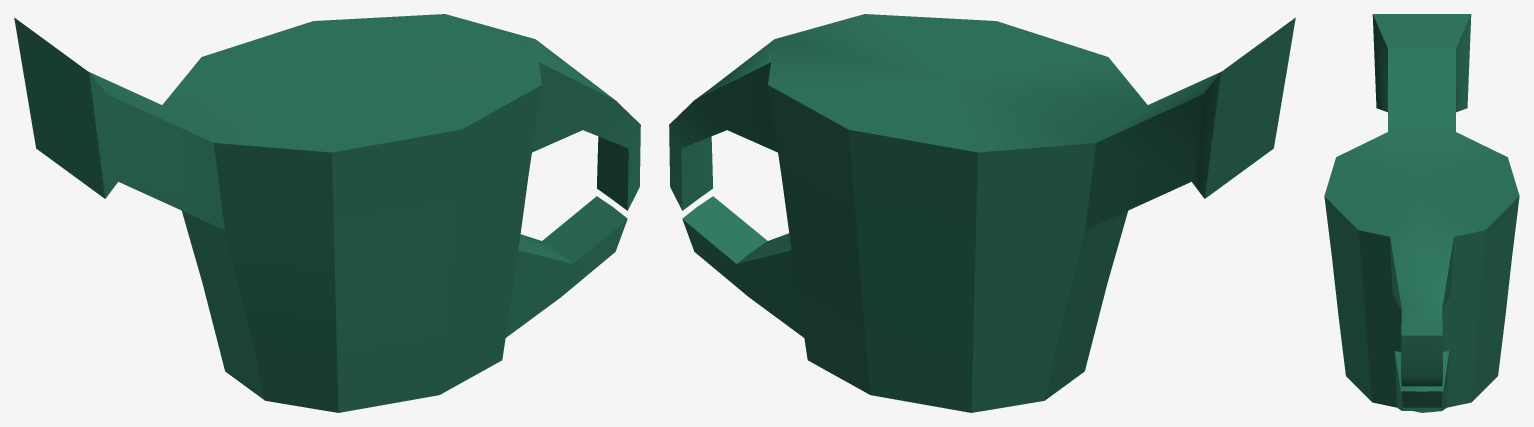
Rendered from wateringcan.fbx.
3 views of the same model, side by side, from view 1: azimuth 30°, elevation 25°; view 2: azimuth 150°, elevation 25°; view 3: azimuth 270°, elevation 25° (orthographic). The views are drawn at different scales.
Visible parts, largest first — view 1: wateringcan; view 2: wateringcan; view 3: wateringcan.
Boxes of the visible parts, bbox=[...] form: wateringcan: bbox=[14, 14, 640, 412]; wateringcan: bbox=[669, 14, 1295, 412]; wateringcan: bbox=[1324, 14, 1519, 412].
Size of the model in its own units: 2.42 by 1.56 by 1.08.
